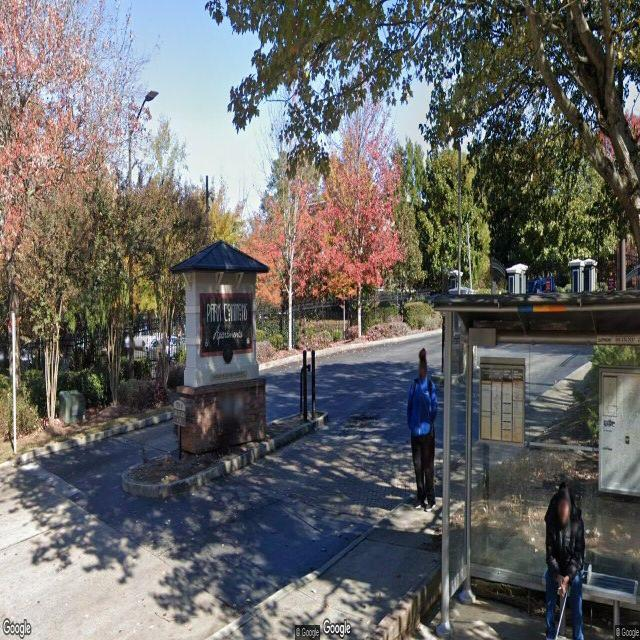seating: (538, 559, 640, 639)
shelter: (428, 288, 640, 640)
